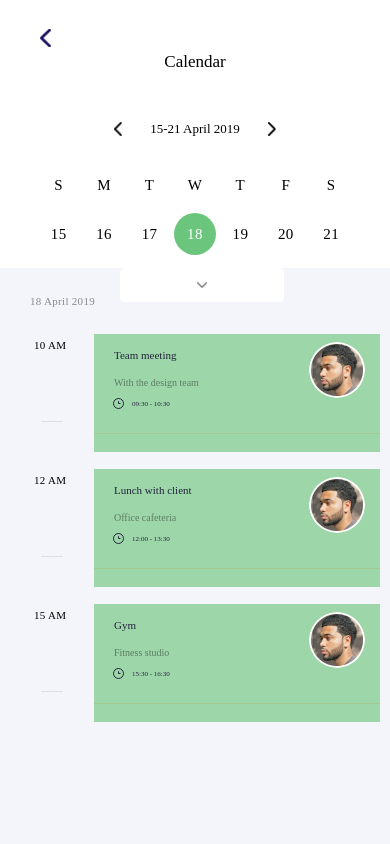
Test: TimeManagement2Screen › selects a day when it is pressed
Click the button with test id "day-20" at (286, 234), box [263,211,308,257]
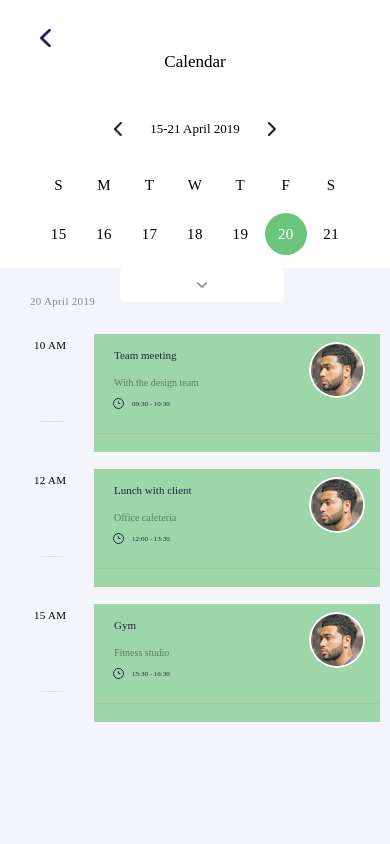
Now the text "20 April 2019" is shown, box [30,295,95,307]
